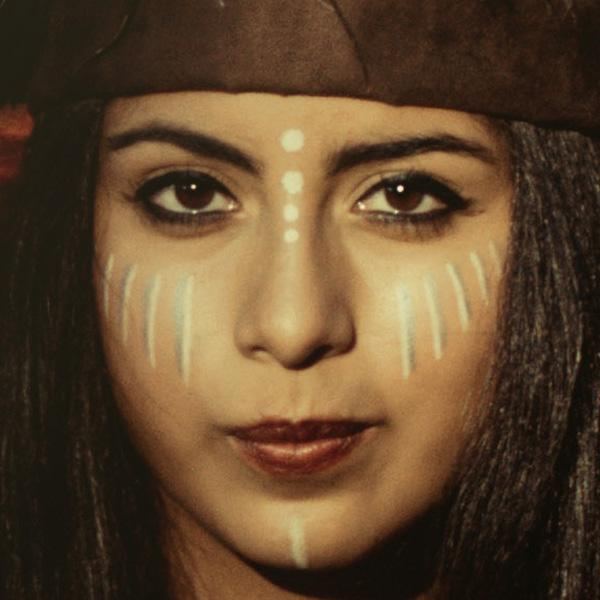Eyes: (125, 153, 244, 235), (344, 164, 471, 238)
